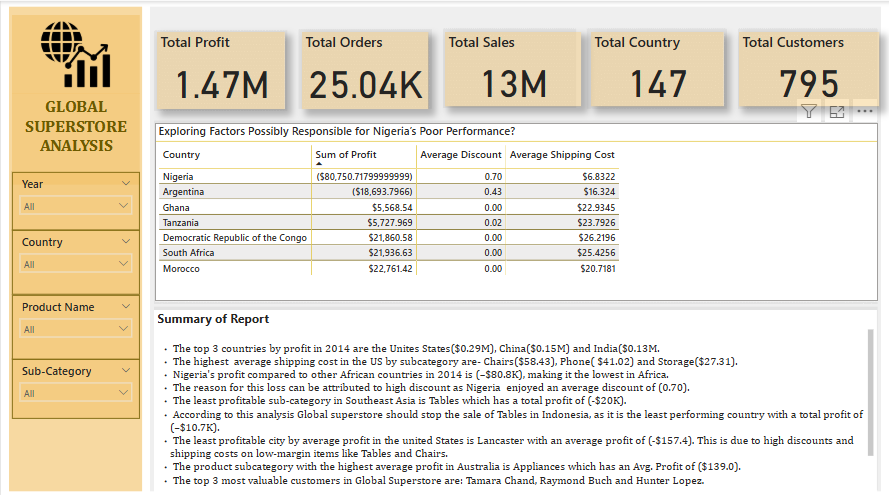

The dashboard page shown, as its layout file describes it:
{"tool":"powerbi","page":{"name":"Page 5","canvas":[1280,720],"ordinal":2},"visuals":[{"type":"tableEx","title":"Exploring Factors Possibly Responsible for Nigeria’s Poor Performance? ","fields":{"Values":["Orders.Country","Sum(Orders.Profit)","Orders.Average Discount","Orders.Average Shipping Cost"]},"box":[221.4,175,1041.1,257.1],"z":0},{"type":"card","title":"Total Profit","fields":{"Values":["Sum(Orders.Profit)"]},"box":[225,44.6,183.9,110.7],"z":1000},{"type":"card","title":"Total Orders","fields":{"Values":["Count(Orders.Order ID)"]},"box":[433.9,44.6,182.1,110.7],"z":2000},{"type":"card","title":"Total Sales","fields":{"Values":["Sum(Orders.Sales)"]},"box":[639.3,44.6,196.4,107.1],"z":3000},{"type":"card","title":"Total Country","fields":{"Values":["Count(Orders.Country)"]},"box":[850,44.6,191.1,107.1],"z":4000},{"type":"card","title":"Total Customers","fields":{"Values":["Count(Orders.Customer Name)"]},"box":[1062.5,44.6,201.8,107.1],"z":5000},{"type":"image","box":[16.1,19.6,183.9,112.5],"z":6000},{"type":"textbox","box":[16.1,132.1,183.9,132.1],"z":7000},{"type":"slicer","fields":{"Values":["DateTable.Year"]},"box":[16.1,246.4,183.9,83.9],"z":8000},{"type":"slicer","fields":{"Values":["Orders.Country"]},"box":[16.1,330.4,183.9,92.9],"z":9000},{"type":"slicer","fields":{"Values":["Orders.Product Name"]},"box":[16.1,423.2,183.9,92.9],"z":10000},{"type":"slicer","fields":{"Values":["Orders.Sub-Category"]},"box":[16.1,516.1,183.9,85.7],"z":11000},{"type":"textbox","title":"Summary of Report","box":[220.3,445,1041.1,263.5],"z":12000}]}

Visuals, with their boxes in screenshot pixels (x1, y1, x2, y2), scaled from the page's 1280x720 canvas onto the 889x495 screenshot:
"Exploring Factors Possibly Responsible for Nigeria’s Poor Performance? " tableEx: select_region(154, 120, 877, 297)
"Total Profit" card: select_region(156, 31, 284, 107)
"Total Orders" card: select_region(301, 31, 428, 107)
"Total Sales" card: select_region(444, 31, 580, 104)
"Total Country" card: select_region(590, 31, 723, 104)
"Total Customers" card: select_region(738, 31, 878, 104)
image: select_region(11, 13, 139, 91)
textbox: select_region(11, 91, 139, 182)
slicer - DateTable.Year: select_region(11, 169, 139, 227)
slicer - Orders.Country: select_region(11, 227, 139, 291)
slicer - Orders.Product Name: select_region(11, 291, 139, 355)
slicer - Orders.Sub-Category: select_region(11, 355, 139, 414)
"Summary of Report" textbox: select_region(153, 306, 876, 487)
